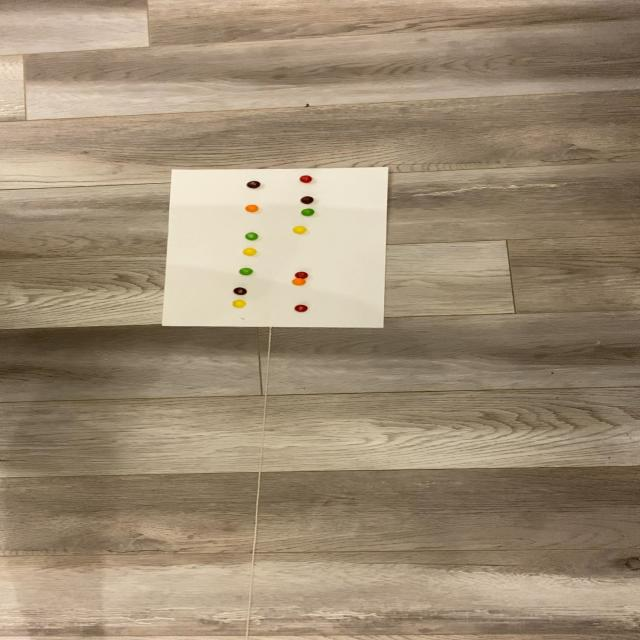smartie: (233, 287, 248, 296), (295, 271, 310, 280), (244, 232, 258, 241), (242, 248, 256, 257), (238, 269, 253, 277), (300, 209, 315, 217), (231, 300, 246, 308), (246, 180, 260, 188), (245, 205, 259, 213), (291, 278, 305, 286), (299, 176, 313, 184), (291, 227, 305, 235), (294, 305, 307, 313), (300, 197, 314, 204)
